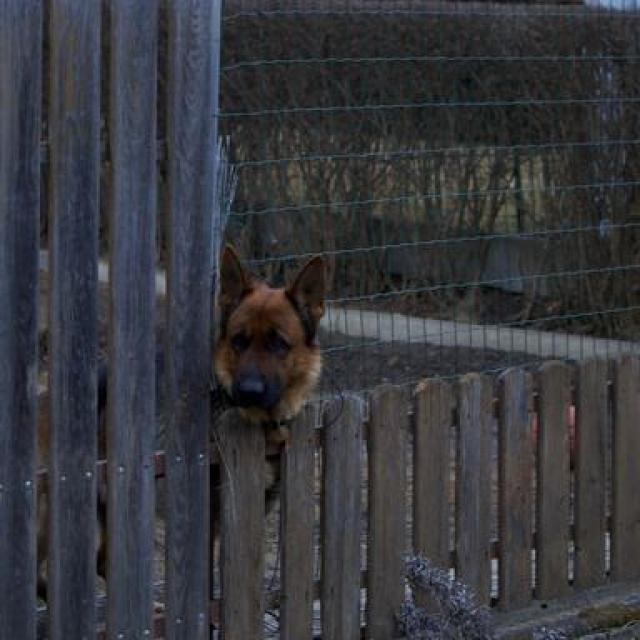sad: (202, 231, 353, 434)
